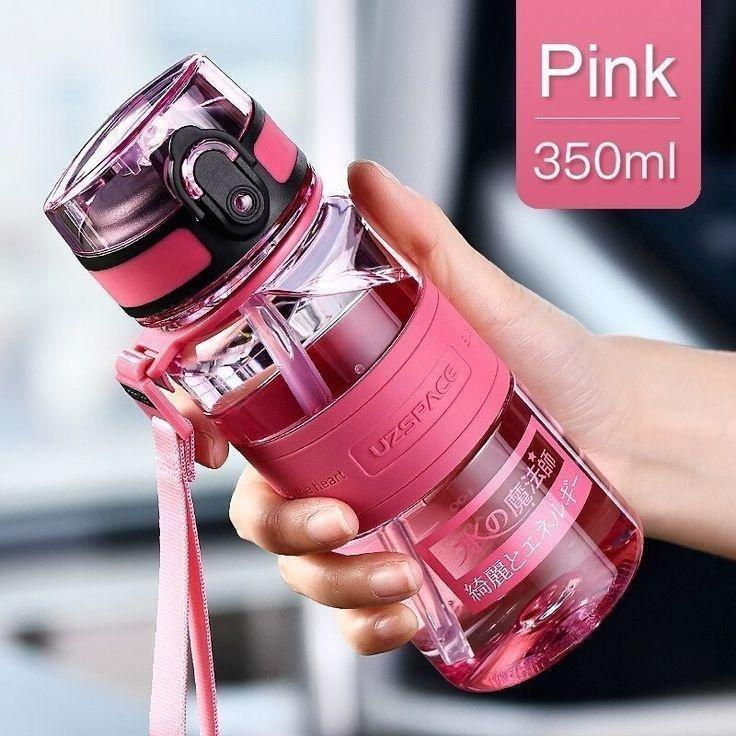gym bottle: (44, 55, 642, 691)
